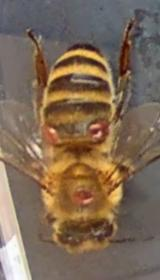varroa_mite: (63, 176, 101, 212), (85, 110, 114, 144), (36, 122, 66, 149)
